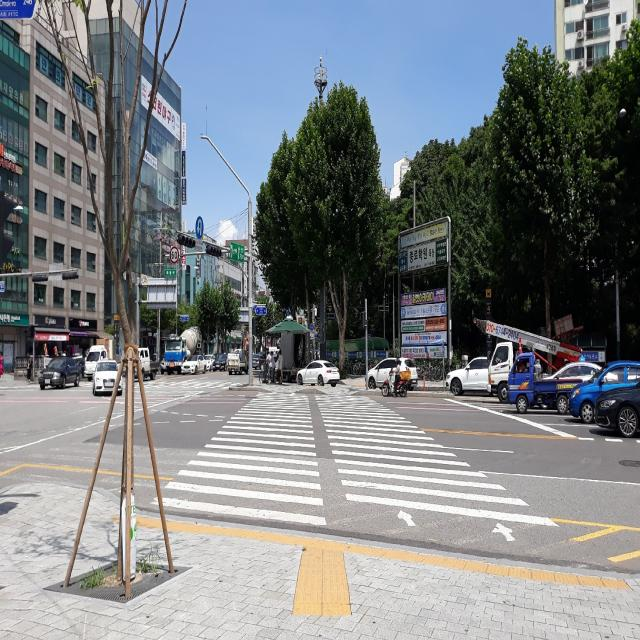횡단보도: (150, 393, 559, 542)
